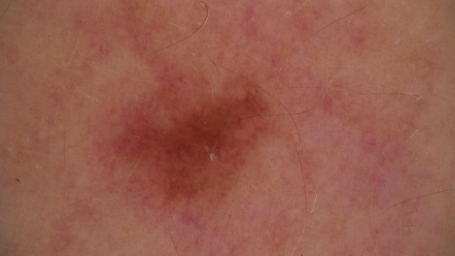melanoma: (116, 82, 276, 197)
